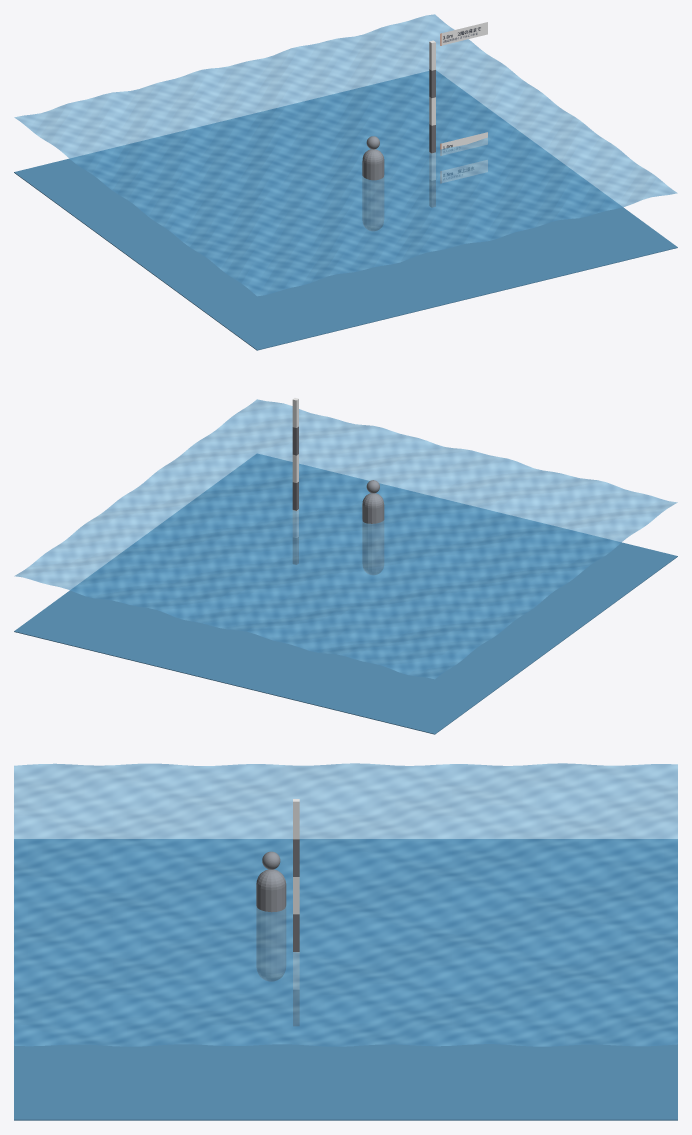
Rendered from flood_100.glb.
3 views of the same model, one above another, from view 1: azimuth 30°, elevation 25°; view 2: azimuth 150°, elevation 25°; view 3: azimuth 270°, elevation 25° (orthographic). The views are drawn at different scales.
Visible parts, largest first — view 1: geometry_0, geometry_1, geometry_14, geometry_12, geometry_10, geometry_8; view 2: geometry_0, geometry_1, geometry_14; view 3: geometry_0, geometry_1, geometry_14.
Boxes of the visible parts, <box> form: geometry_0: <box>14,14,677,296</box>; geometry_1: <box>14,70,677,350</box>; geometry_14: <box>362,149,384,230</box>; geometry_12: <box>440,22,487,45</box>; geometry_10: <box>440,132,487,155</box>; geometry_8: <box>441,160,487,183</box>; geometry_0: <box>14,399,677,679</box>; geometry_1: <box>14,453,677,734</box>; geometry_14: <box>362,493,384,574</box>; geometry_0: <box>14,763,677,1046</box>; geometry_1: <box>14,839,677,1120</box>; geometry_14: <box>256,869,286,981</box>.
Bounding box in the file's own units: 8 × 3.12 × 8.
8 materials, 4 textured.
